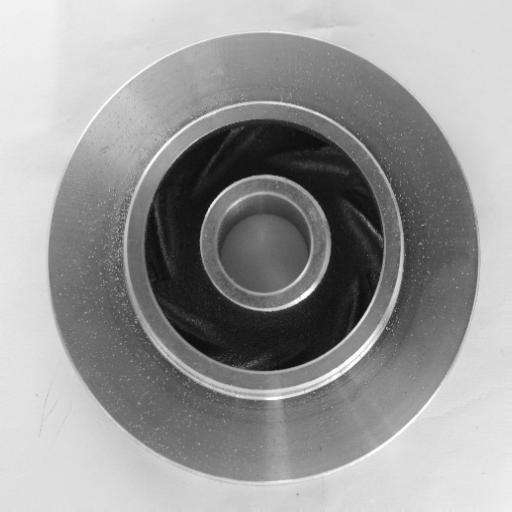polished_casting: (48, 31, 480, 487)
